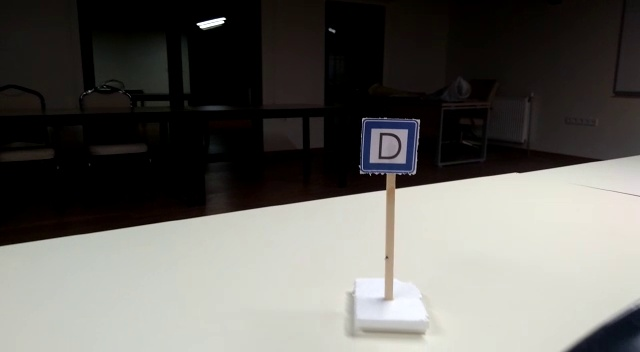durak: (360, 119, 421, 173)
